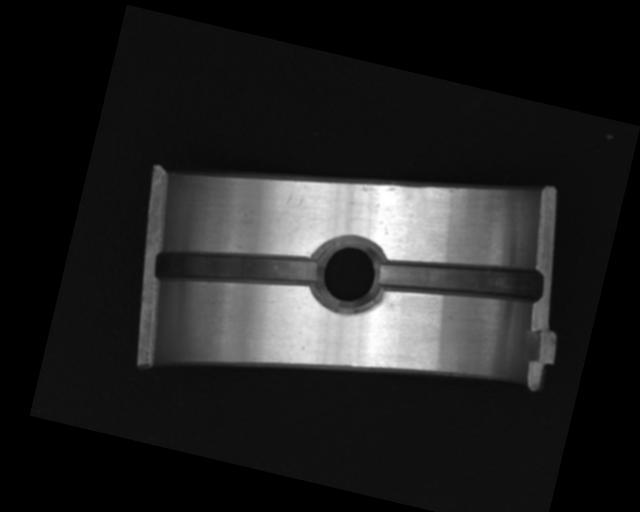gap: (153, 222, 321, 314), (374, 234, 545, 324)
hole: (307, 229, 388, 316)
